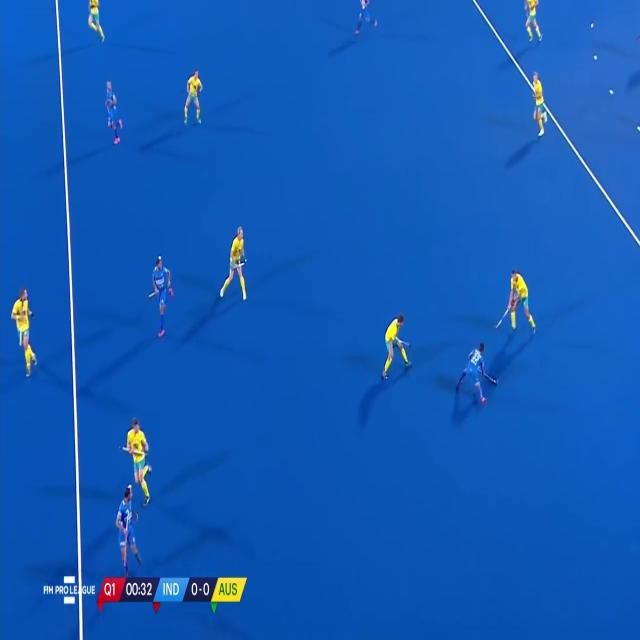ball: (490, 374, 500, 388)
